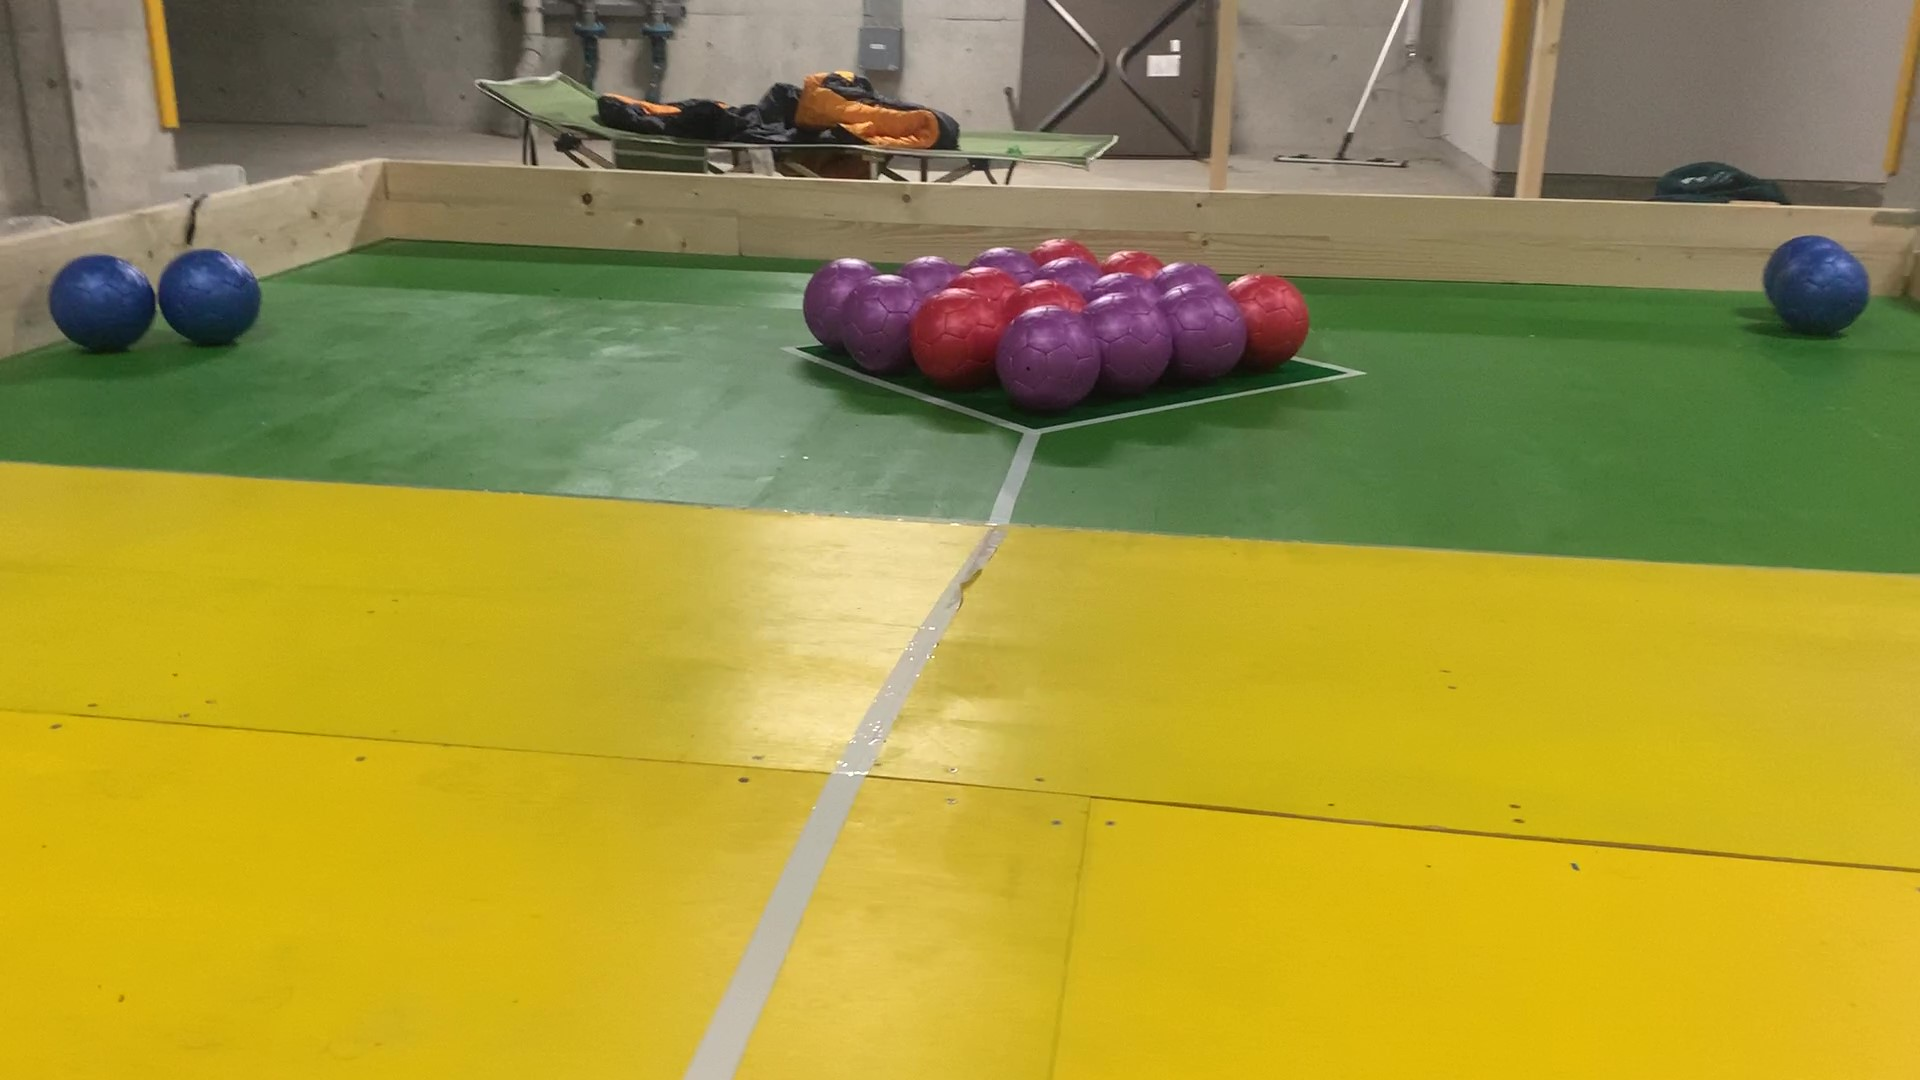blue: (65, 260, 144, 345), (171, 255, 247, 335), (1788, 253, 1862, 326), (1770, 235, 1854, 251)
purple: (1009, 320, 1088, 400), (1170, 290, 1236, 376), (1100, 303, 1163, 381), (855, 287, 905, 367), (811, 266, 839, 340), (899, 255, 957, 282), (976, 245, 1030, 268), (1100, 276, 1150, 295), (1164, 266, 1212, 286), (1043, 266, 1096, 284)
red: (920, 303, 986, 380), (1242, 281, 1299, 363), (957, 269, 1009, 295), (1019, 287, 1079, 310), (1034, 240, 1089, 264), (1112, 251, 1159, 272)
